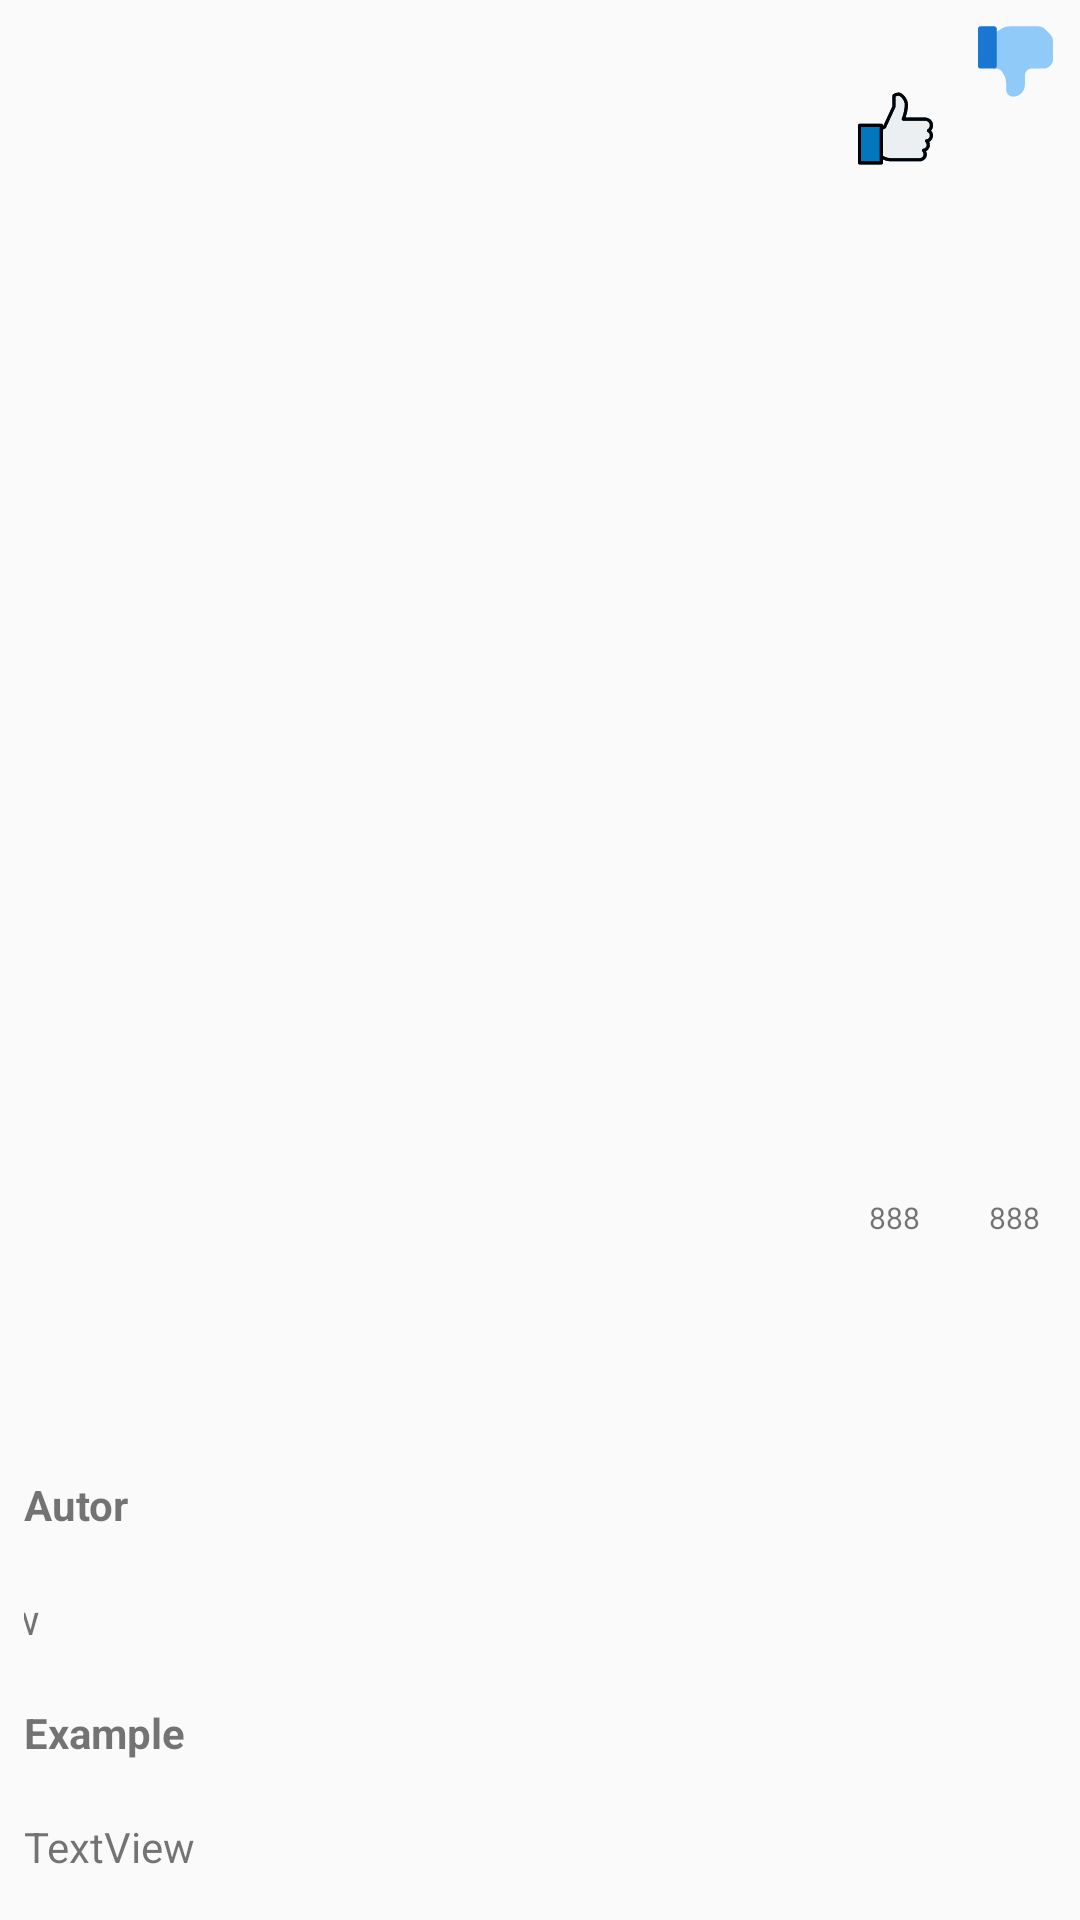

Screen size 1080 × 1920. Icon name, then its box in pixels as (x1, y1, x2, y2):
thumb down: (978, 26, 1053, 97)
thumb up: (858, 92, 933, 165)
